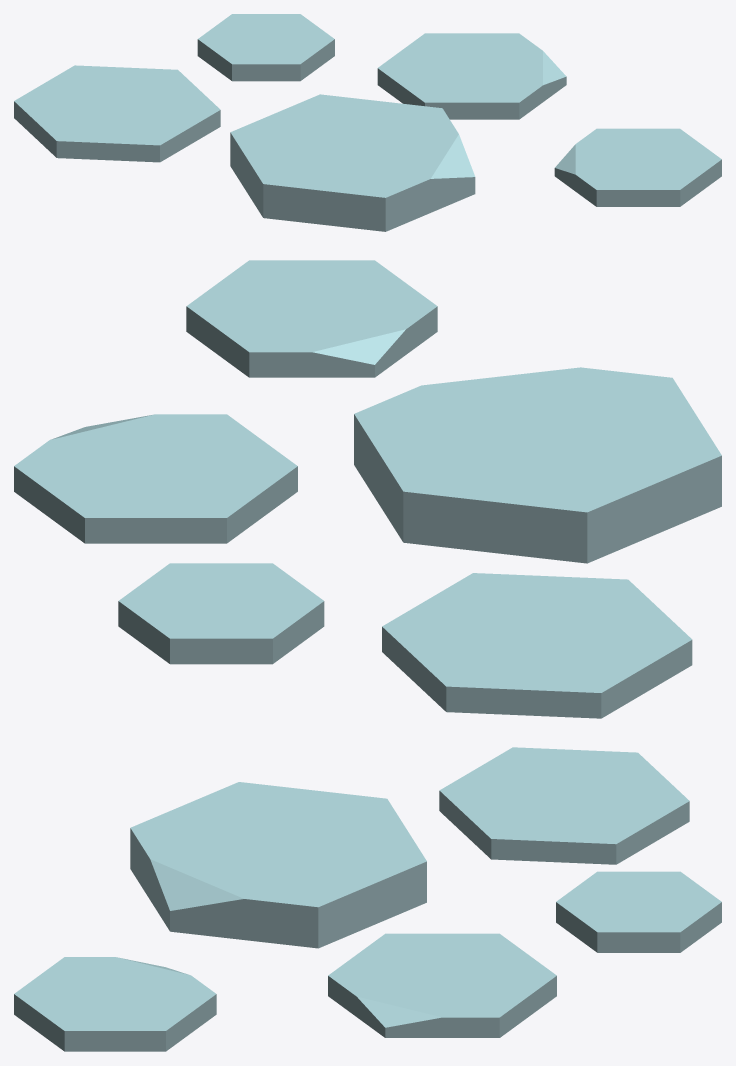
The model's file is path_stoneCorner.obj.
3 renders of one model, top to bottom at view 1: azimuth 30°, elevation 25°; view 2: azimuth 150°, elevation 25°; view 3: azimuth 270°, elevation 25°, orthographic. The views are drawn at different scales.
Visible parts, largest first — view 1: path_stoneCorner; view 2: path_stoneCorner; view 3: path_stoneCorner.
Boxes of the visible parts, x1,y1,x2,y2 form: path_stoneCorner: [14, 14, 721, 231]; path_stoneCorner: [14, 260, 721, 718]; path_stoneCorner: [14, 747, 721, 1051].
Bounding box in the file's own units: 0.7383 × 0.05 × 0.7784.
